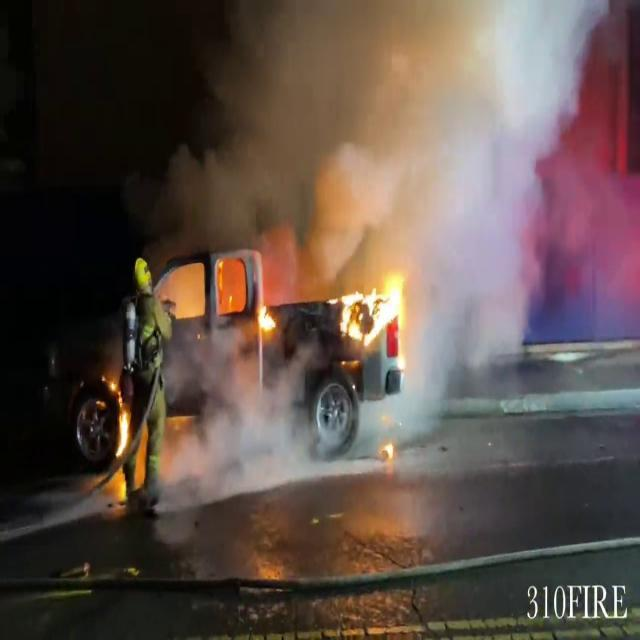Fire: (334, 266, 409, 356), (102, 366, 134, 486)
Smoke: (167, 0, 620, 294), (167, 337, 420, 502), (159, 320, 312, 486)
